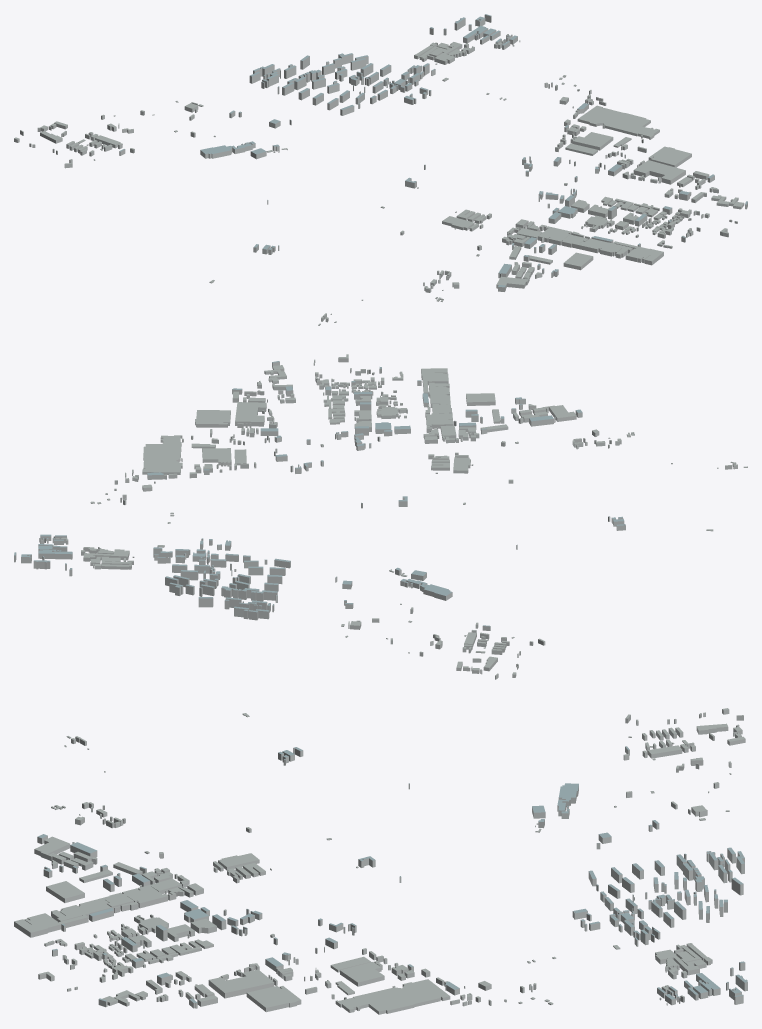
File: far.glb
3 renders of one model, top to bottom at view 1: azimuth 30°, elevation 25°; view 2: azimuth 150°, elevation 25°; view 3: azimuth 270°, elevation 25°, orthographic. The views are drawn at different scales.
Size of the model in its own units: 2129 by 36.08 by 2183.
